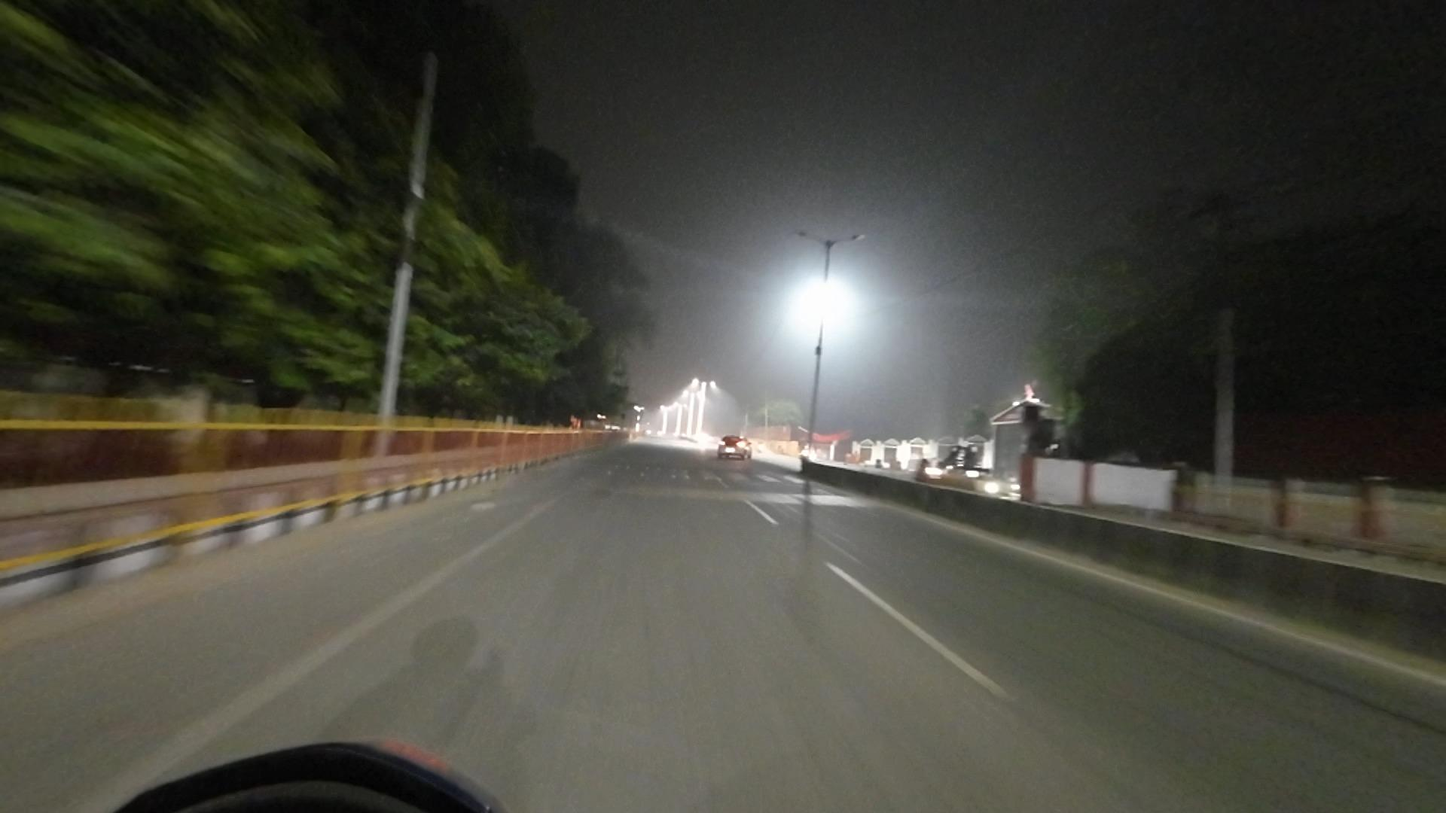streetlight: (795, 228, 822, 244), (833, 233, 867, 244)
